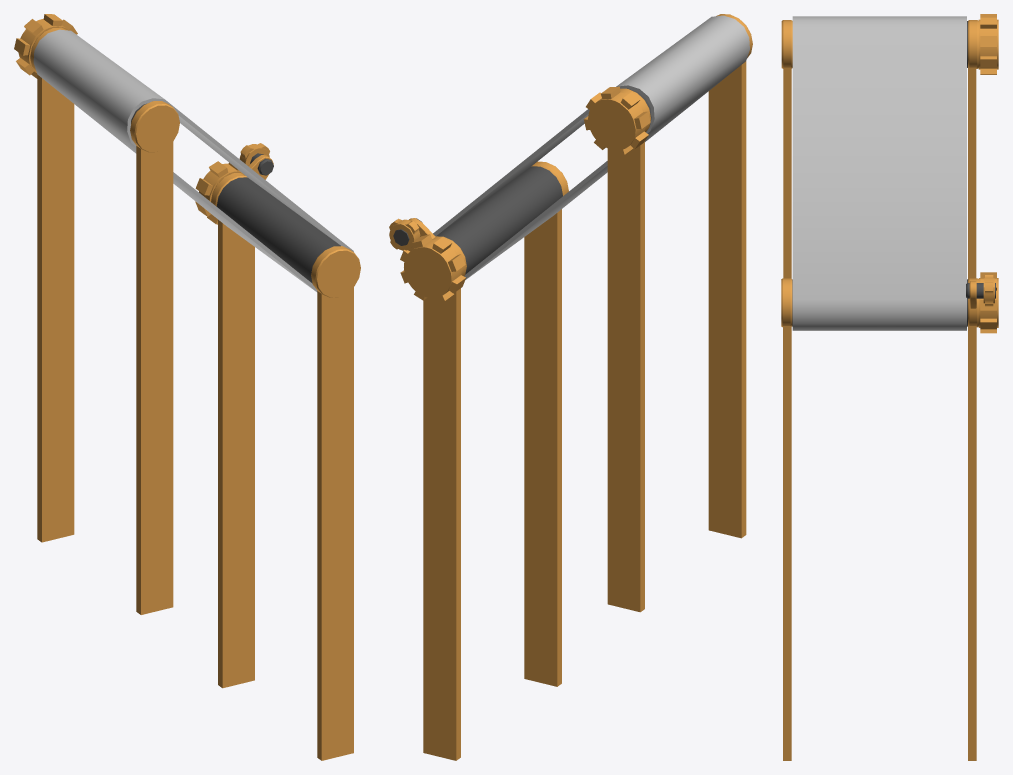
The model's file is gear beltconveyor slope.fbx.
The picture shows the model from 3 angles, left to right: view 1: azimuth 30°, elevation 25°; view 2: azimuth 150°, elevation 25°; view 3: azimuth 270°, elevation 25°; orthographic projection. The views are drawn at different scales.
Parts seen in each view (by area): view 1: 立方体.009, 立方体.008, 円柱.036, 円柱.039, 円柱.037, 円柱.040, 円柱.035, 円柱.038; view 2: 立方体.009, 立方体.008, 円柱.036, 円柱.039, 円柱.035, 円柱.038, 円柱.037; view 3: 円柱.036, 立方体.008, 立方体.009, 円柱.035, 円柱.040, 円柱.037, 円柱.039, 円柱.038.
Boxes of the visible parts, <box> form: 立方体.009: <box>37,74,173,614</box>; 立方体.008: <box>218,219,353,760</box>; 円柱.036: <box>33,29,353,292</box>; 円柱.039: <box>195,161,340,283</box>; 円柱.037: <box>211,155,360,297</box>; 円柱.040: <box>30,27,179,152</box>; 円柱.035: <box>14,14,146,123</box>; 円柱.038: <box>239,143,273,175</box>; 立方体.009: <box>607,61,746,612</box>; 立方体.008: <box>423,209,561,760</box>; 円柱.036: <box>433,15,749,279</box>; 円柱.039: <box>400,166,562,302</box>; 円柱.035: <box>584,86,651,154</box>; 円柱.038: <box>389,218,421,251</box>; 円柱.037: <box>408,161,568,276</box>; 円柱.036: <box>792,16,966,330</box>; 立方体.008: <box>783,325,976,760</box>; 立方体.009: <box>783,66,976,278</box>; 円柱.035: <box>967,14,998,74</box>; 円柱.040: <box>781,20,978,68</box>; 円柱.037: <box>781,278,978,327</box>; 円柱.039: <box>792,272,998,333</box>; 円柱.038: <box>966,275,995,306</box>.
Size of the model in its own units: 1.08 by 2.9 by 0.8725.
